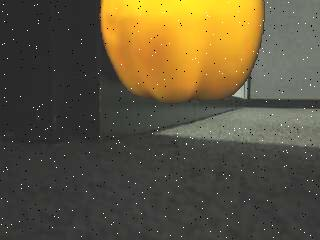Capsicum: (97, 0, 267, 106)
